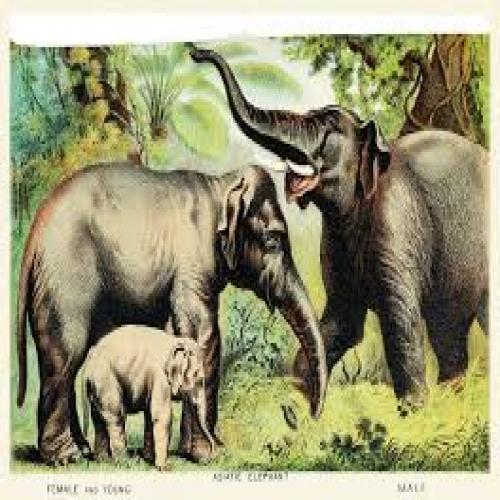asian_elephant-endangered: (187, 47, 484, 404), (20, 160, 330, 464), (80, 324, 214, 469)
